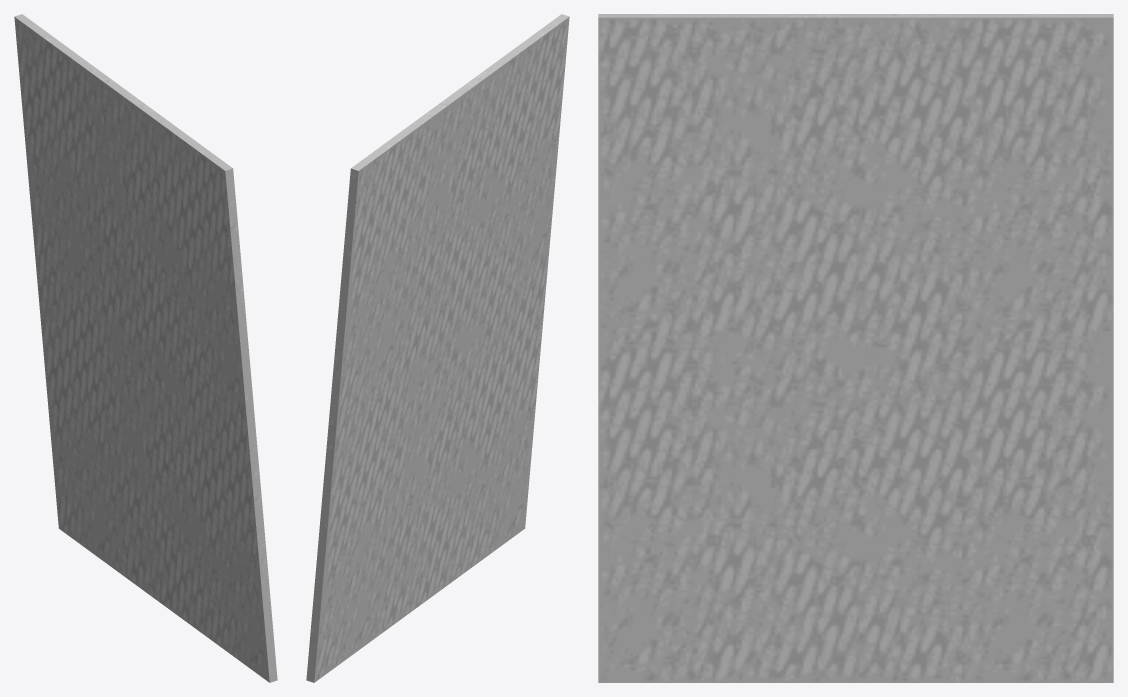
Rendered from MetalSheet.fbx.
The picture shows the model from 3 angles, left to right: view 1: azimuth 30°, elevation 25°; view 2: azimuth 150°, elevation 25°; view 3: azimuth 270°, elevation 25°; orthographic projection. The views are drawn at different scales.
Parts seen in each view (by area): view 1: Cube.145; view 2: Cube.145; view 3: Cube.145.
Part boxes in pixels (bbox=[...]): Cube.145: bbox=[14, 14, 277, 682]; Cube.145: bbox=[306, 14, 569, 682]; Cube.145: bbox=[598, 14, 1113, 682].
Size of the model in its own units: 141 by 1343 by 981.
1 material, 1 textured.
